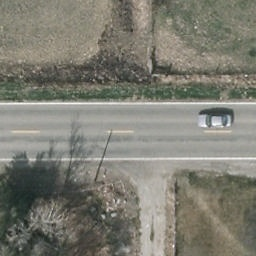car: (197, 112, 234, 130)
